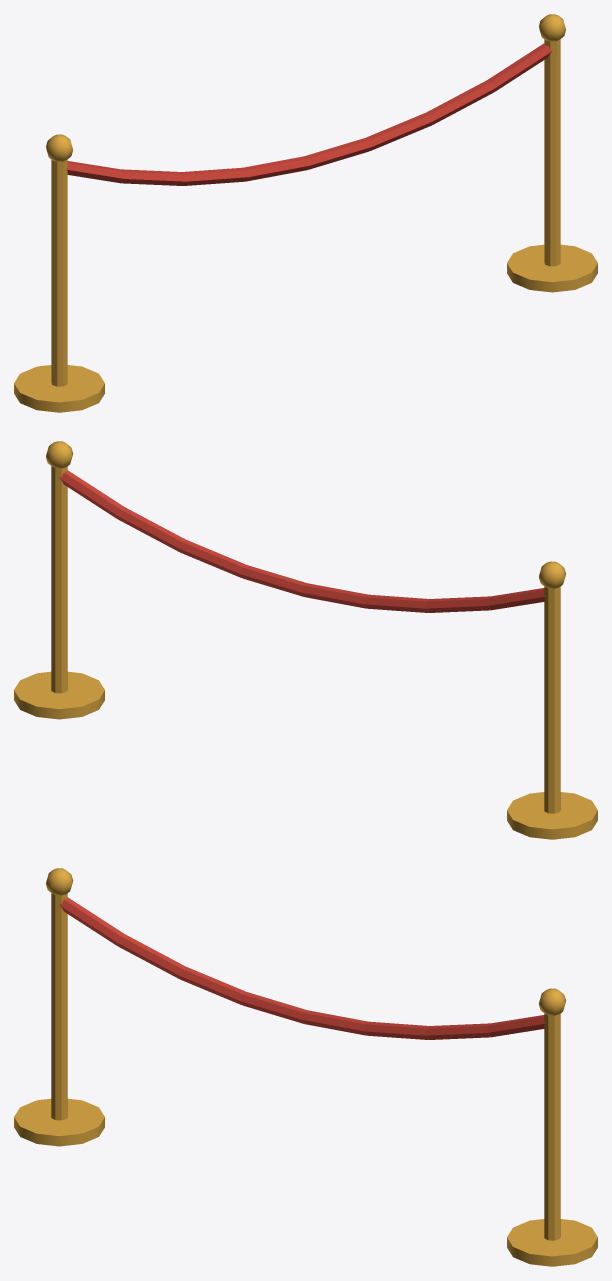
Rendered from rt_queue_rail.glb.
The picture shows the model from 3 angles, top to bottom: view 1: azimuth 30°, elevation 25°; view 2: azimuth 150°, elevation 25°; view 3: azimuth 330°, elevation 25°; orthographic projection.
Parts seen in each view (by area): view 1: rt_queue_rail_body; view 2: rt_queue_rail_body; view 3: rt_queue_rail_body.
Part boxes in pixels (x1,y1,x2,y2): rt_queue_rail_body: [14, 14, 597, 412]; rt_queue_rail_body: [14, 441, 597, 839]; rt_queue_rail_body: [14, 868, 597, 1266].
Size of the model in its own units: 2.32 by 1 by 0.32.
